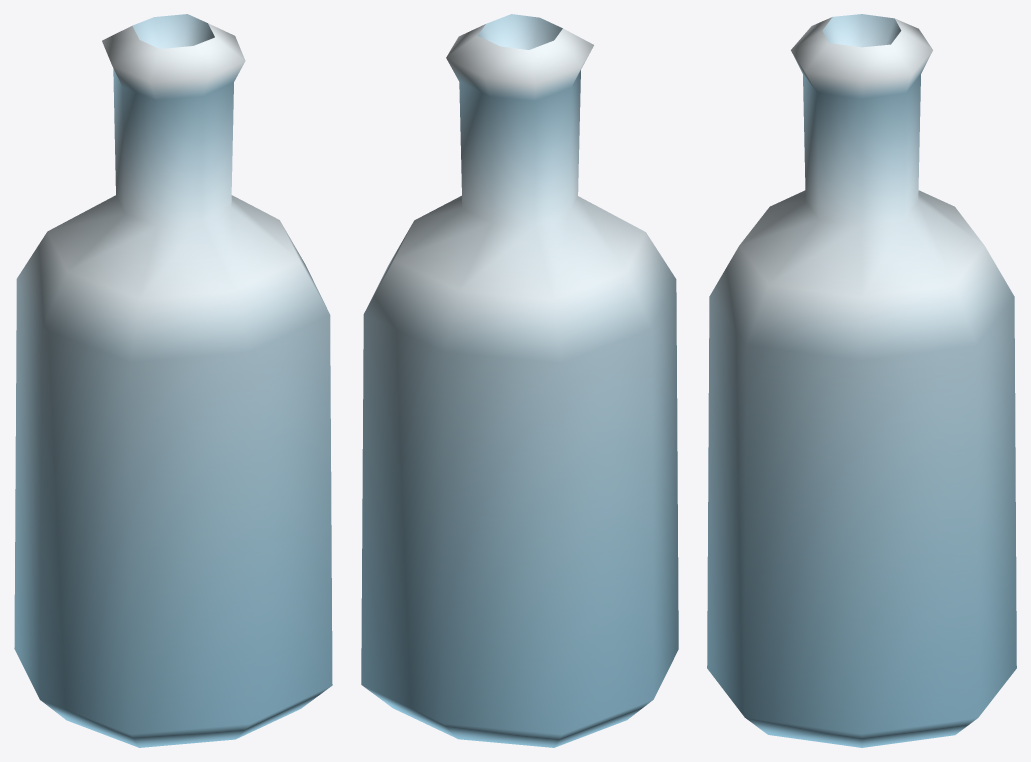
Rendered from bottle_glass_white_open.fbx.
The picture shows the model from 3 angles, left to right: view 1: azimuth 30°, elevation 25°; view 2: azimuth 150°, elevation 25°; view 3: azimuth 270°, elevation 25°; orthographic projection.
Parts seen in each view (by area): view 1: bottle_glass_white_open; view 2: bottle_glass_white_open; view 3: bottle_glass_white_open.
Part boxes in pixels (<box>): bottle_glass_white_open: <box>14,14,332,747</box>; bottle_glass_white_open: <box>361,14,678,747</box>; bottle_glass_white_open: <box>707,14,1016,747</box>.
Size of the model in its own units: 24.28 by 57.53 by 24.29.
